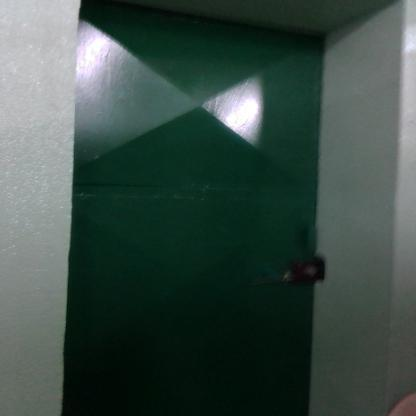door: (60, 0, 325, 415)
